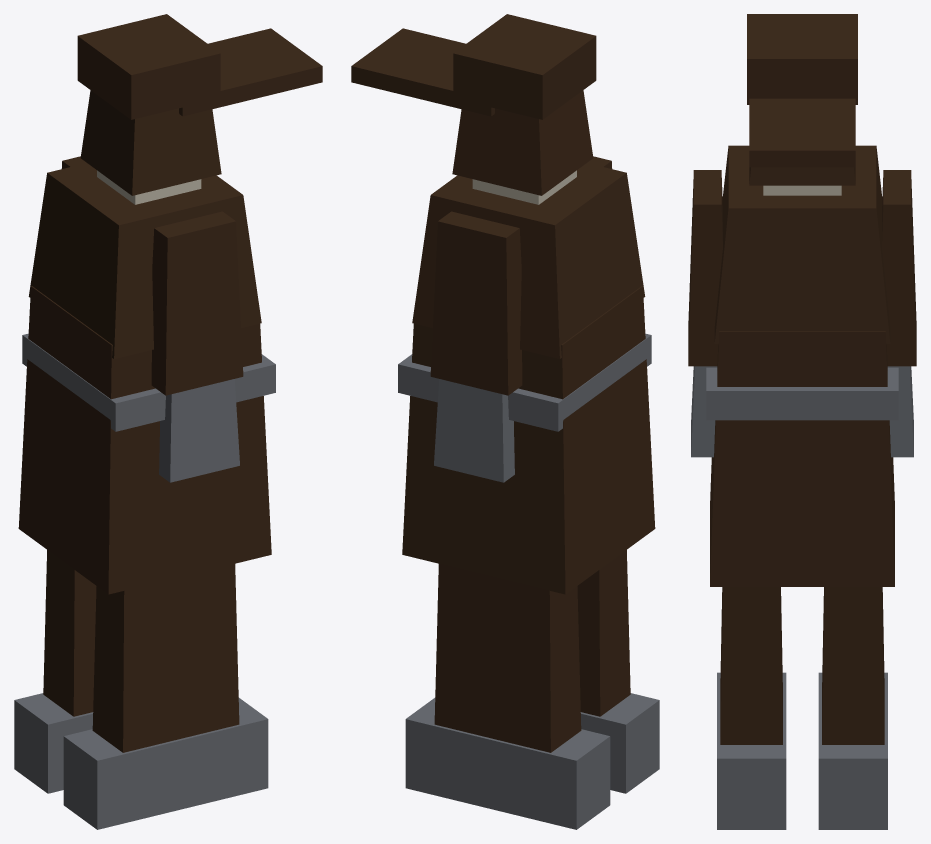
Rendered from SN_HT_Dock_Worker_A.glb.
The picture shows the model from 3 angles, left to right: view 1: azimuth 30°, elevation 25°; view 2: azimuth 150°, elevation 25°; view 3: azimuth 270°, elevation 25°; orthographic projection. The views are drawn at different scales.
Visible parts, largest first — view 1: SN_HT_Dock_Worker_A; view 2: SN_HT_Dock_Worker_A; view 3: SN_HT_Dock_Worker_A.
Boxes of the visible parts, left/top/right/bottom form: SN_HT_Dock_Worker_A: left=14, top=14, right=322, bottom=829; SN_HT_Dock_Worker_A: left=351, top=14, right=659, bottom=829; SN_HT_Dock_Worker_A: left=688, top=14, right=916, bottom=829.
Bounding box in the file's own units: 0.62 × 1.8 × 0.494.
